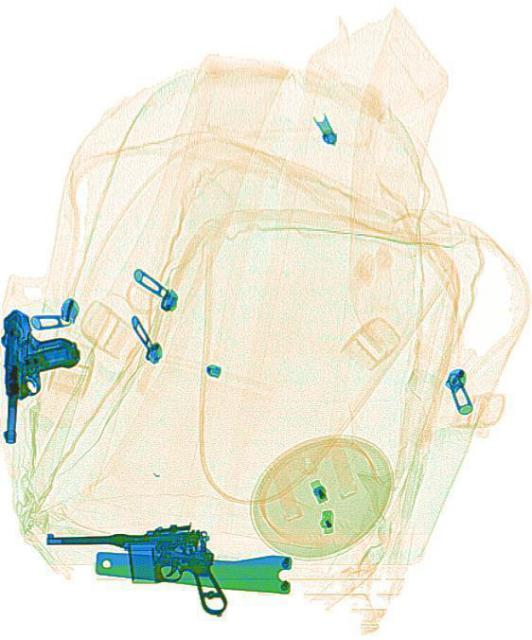Gun: (43, 520, 226, 620), (0, 305, 83, 444)
